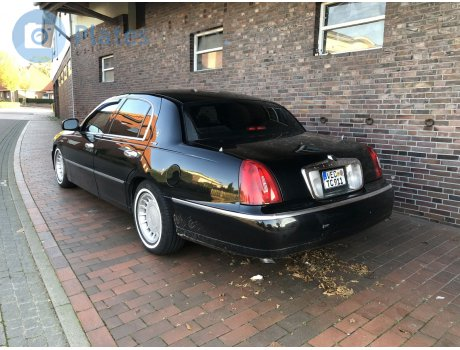License Plates: (321, 171, 345, 194)
